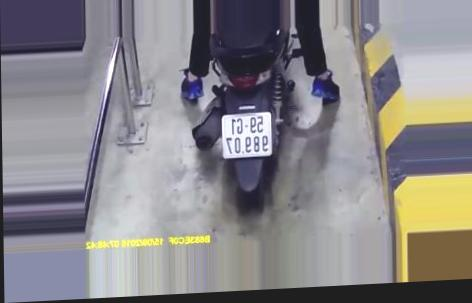License_Plate: (218, 107, 277, 162)
